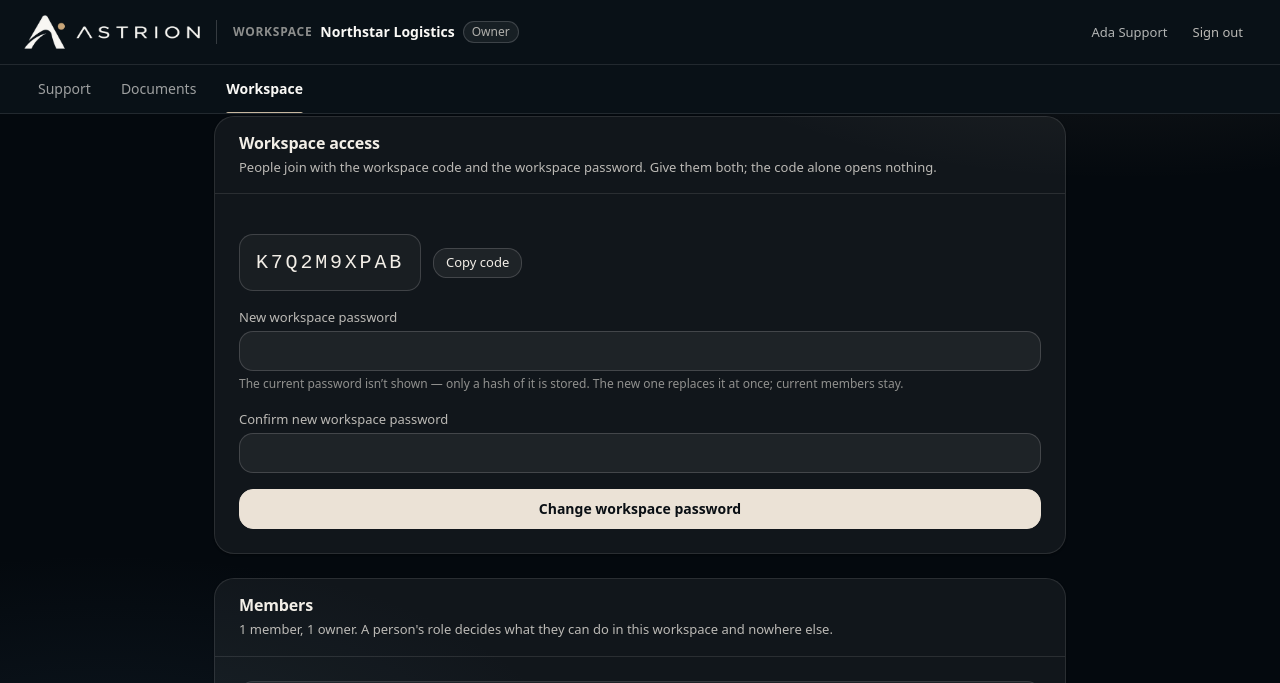
Test: the owner's workspace access › changes the password, sends it twice, and clears the fields
(page scrolled)
Type "a-fresh-passphrase" into the password field labelled "New workspace password". click: (640, 351)
box: left=239, top=331, right=1041, bottom=371
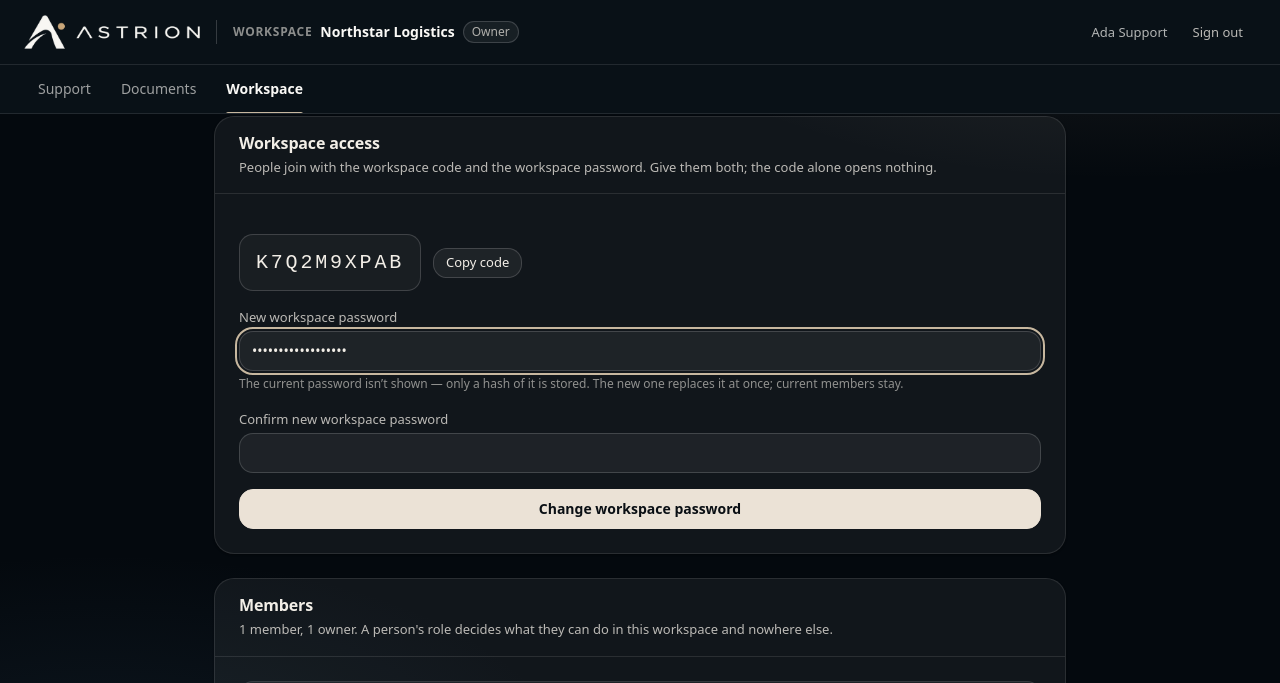
Type "a-fresh-passphrase" into the password field labelled "Confirm new workspace password". click: (640, 453)
box: left=239, top=433, right=1041, bottom=473
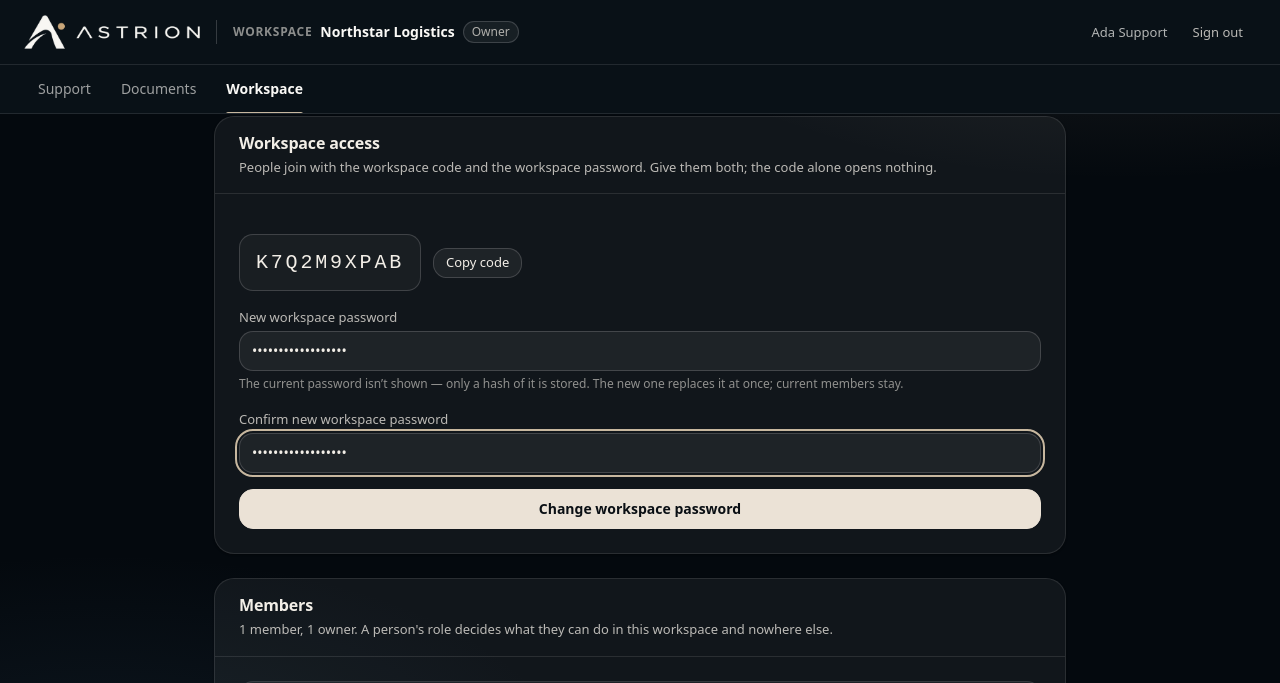
Click the button "Change workspace password". click: (640, 509)
box: left=239, top=489, right=1041, bottom=529
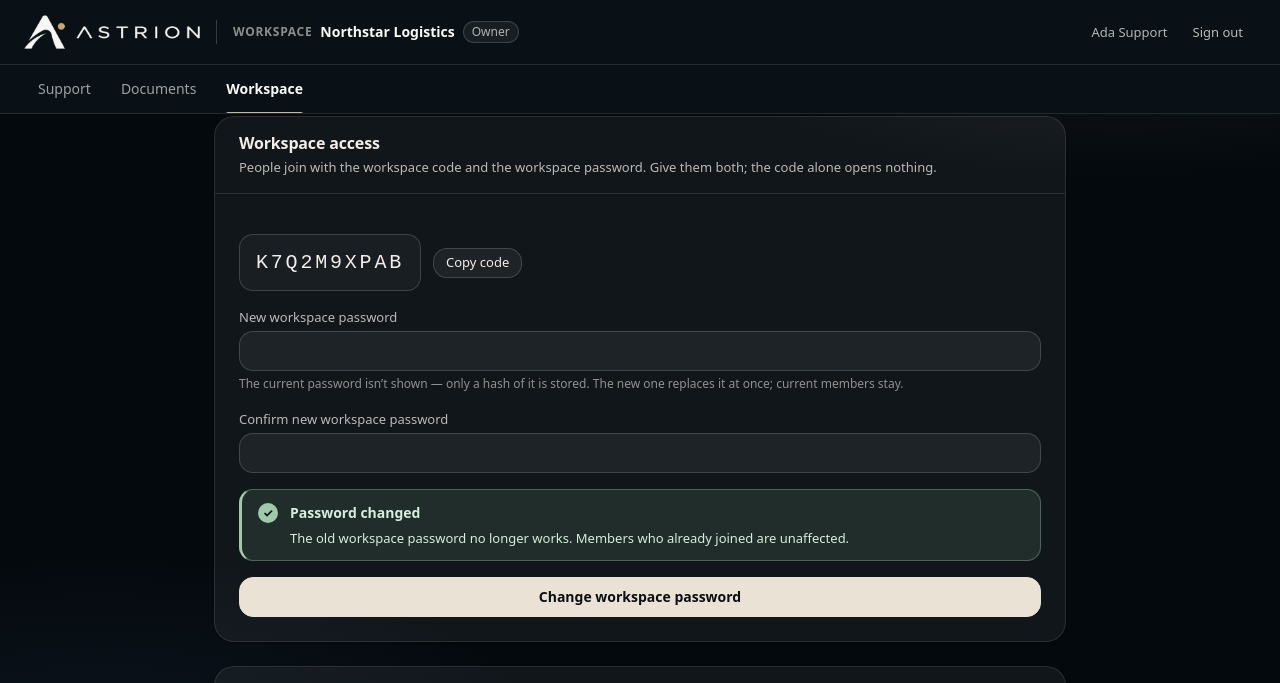
Expected: the text "The old workspace password no longer works" is shown, left=290, top=529, right=849, bottom=547
Expected: the password field labelled "New workspace password" is empty, left=239, top=331, right=1041, bottom=371
Expected: the password field labelled "Confirm new workspace password" is empty, left=239, top=433, right=1041, bottom=473
